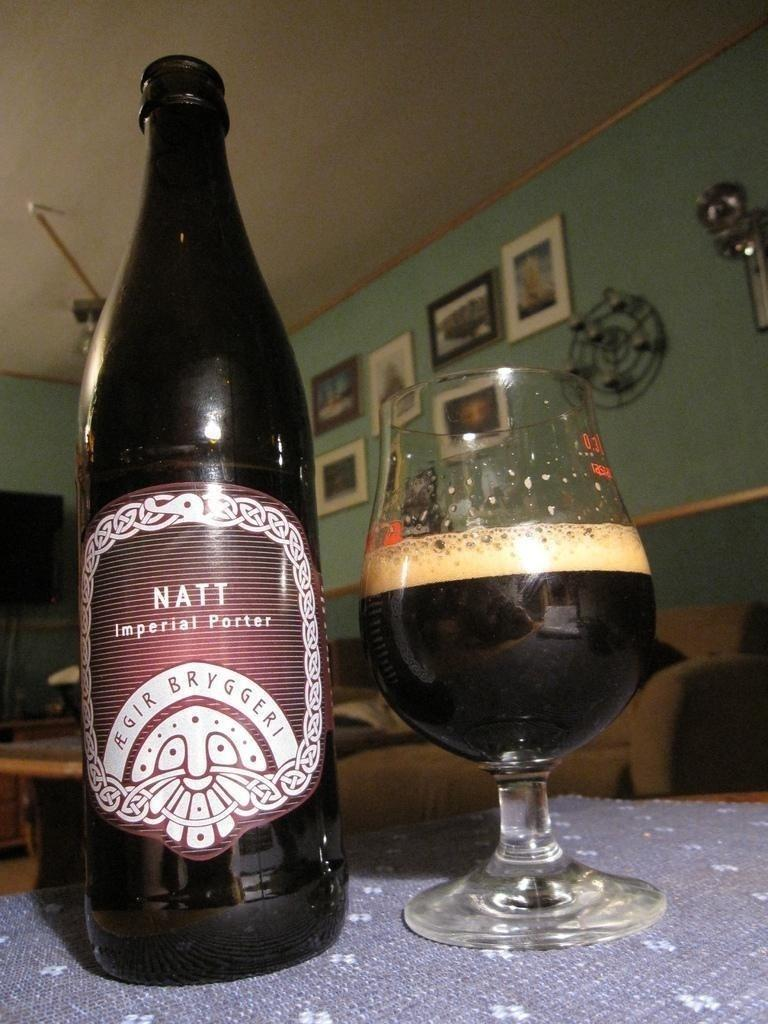bottle-glass: (79, 52, 358, 991)
glass-wine: (359, 361, 669, 948)
